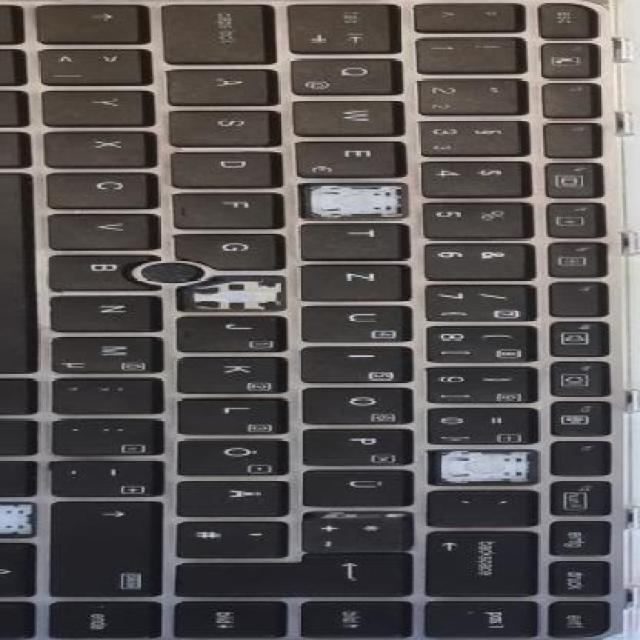Keyboard problems: (177, 275, 283, 311), (431, 451, 537, 483), (302, 185, 406, 217), (0, 503, 35, 535)
